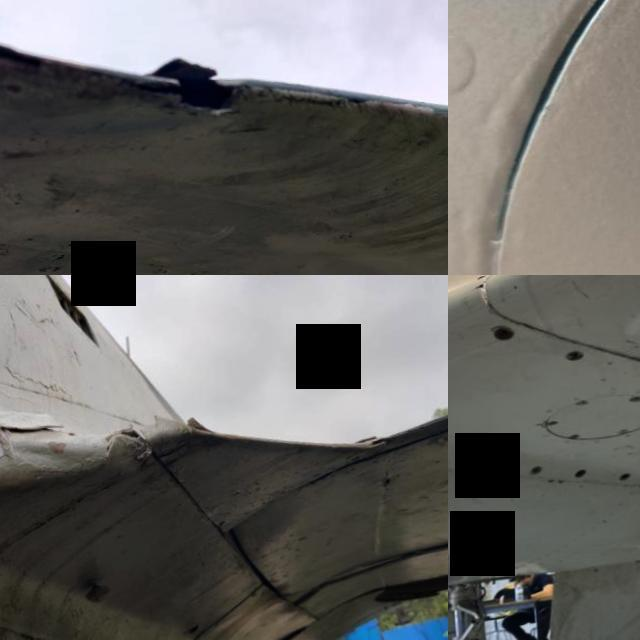Crack: (125, 40, 260, 138), (158, 410, 227, 458), (105, 413, 152, 462), (471, 286, 487, 296)
Missing_Fastener: (494, 330, 514, 344), (567, 354, 586, 366), (576, 473, 586, 482), (621, 478, 631, 487), (468, 275, 482, 277)
